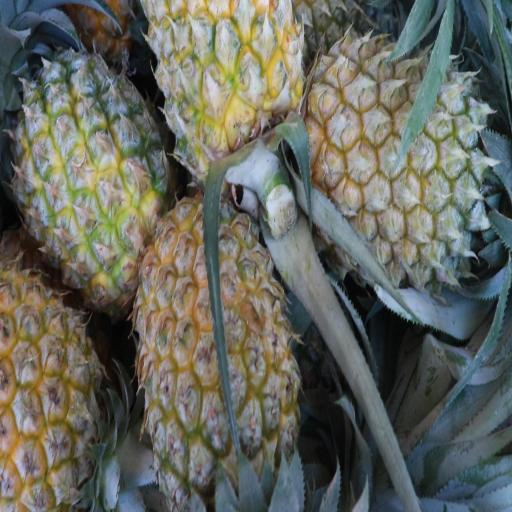------------------------------: (139, 194, 298, 506)
Pineapple - v8 v1: (18, 53, 164, 294), (0, 264, 112, 512), (149, 0, 301, 176)
